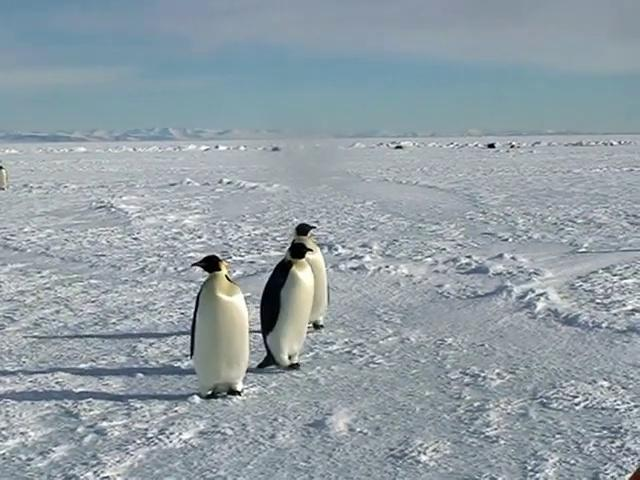animal: (295, 224, 330, 330)
